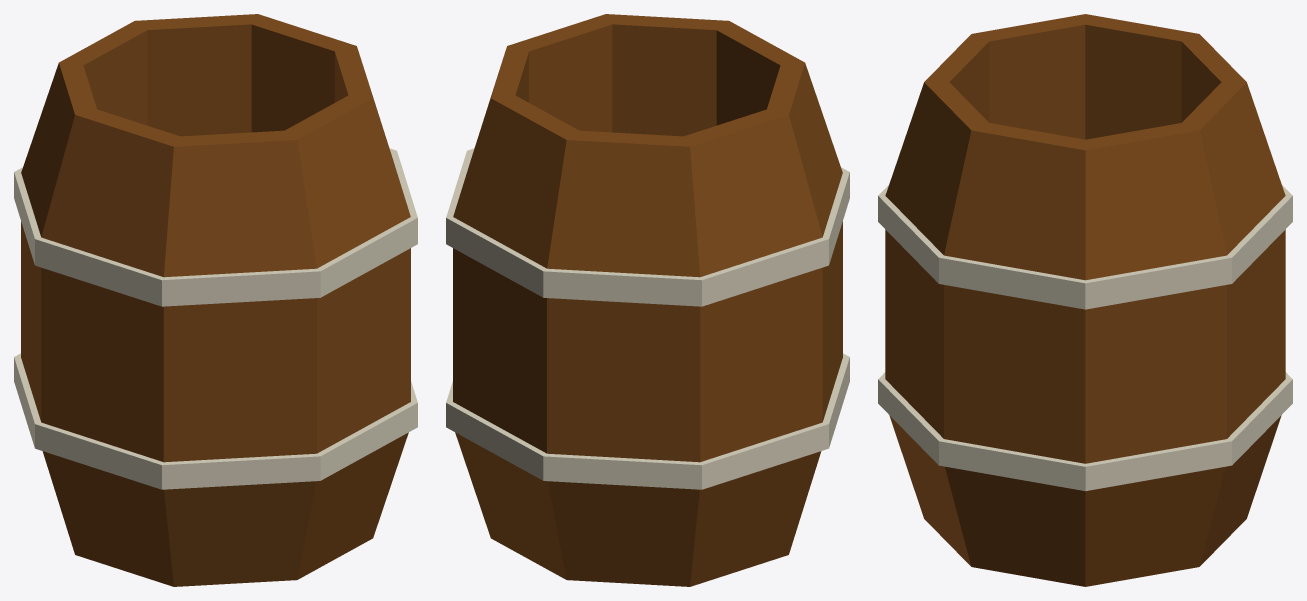
Rendered from barrel_opened.fbx.
3 renders of one model, left to right at view 1: azimuth 30°, elevation 25°; view 2: azimuth 150°, elevation 25°; view 3: azimuth 270°, elevation 25°, orthographic.
Parts seen in each view (by area): view 1: barrel_opened; view 2: barrel_opened; view 3: barrel_opened.
Part boxes in pixels (<box>): barrel_opened: <box>14,14,417,586</box>; barrel_opened: <box>446,14,849,586</box>; barrel_opened: <box>878,14,1292,586</box>.
Size of the model in its own units: 58.18 by 67.59 by 58.18.
